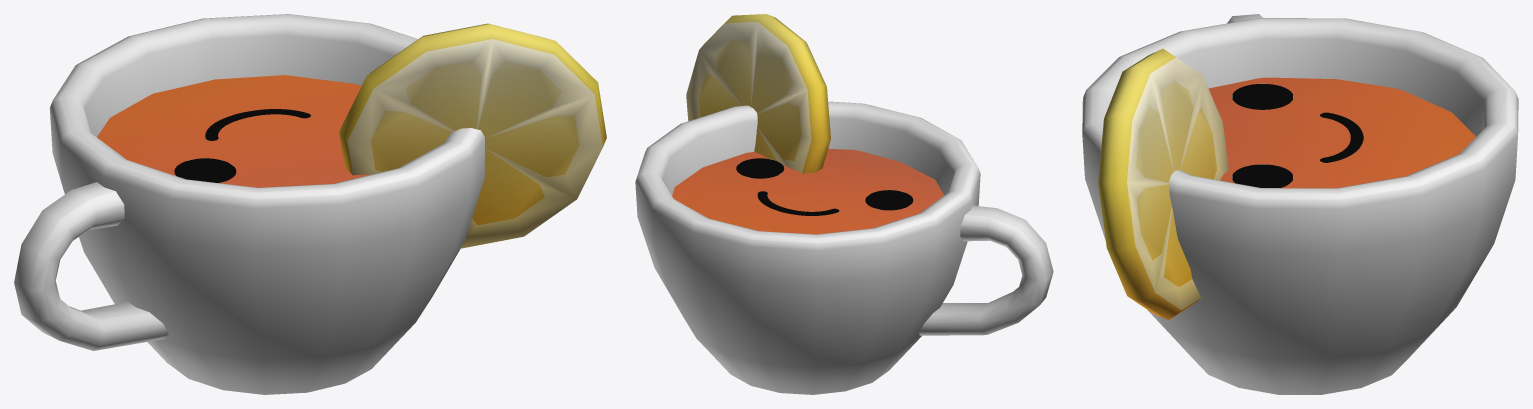
Rendered from tea_lemon_smile.fbx.
3 views of the same model, side by side, from view 1: azimuth 30°, elevation 25°; view 2: azimuth 150°, elevation 25°; view 3: azimuth 270°, elevation 25° (orthographic). The views are drawn at different scales.
Parts seen in each view (by area): view 1: tea_lemon_smile; view 2: tea_lemon_smile; view 3: tea_lemon_smile.
Boxes of the visible parts, left/top/right/bottom form: tea_lemon_smile: left=14, top=14, right=606, bottom=394; tea_lemon_smile: left=635, top=14, right=1053, bottom=394; tea_lemon_smile: left=1082, top=14, right=1518, bottom=394.
Bounding box in the file's own units: 22.55 × 16.25 × 14.36.
